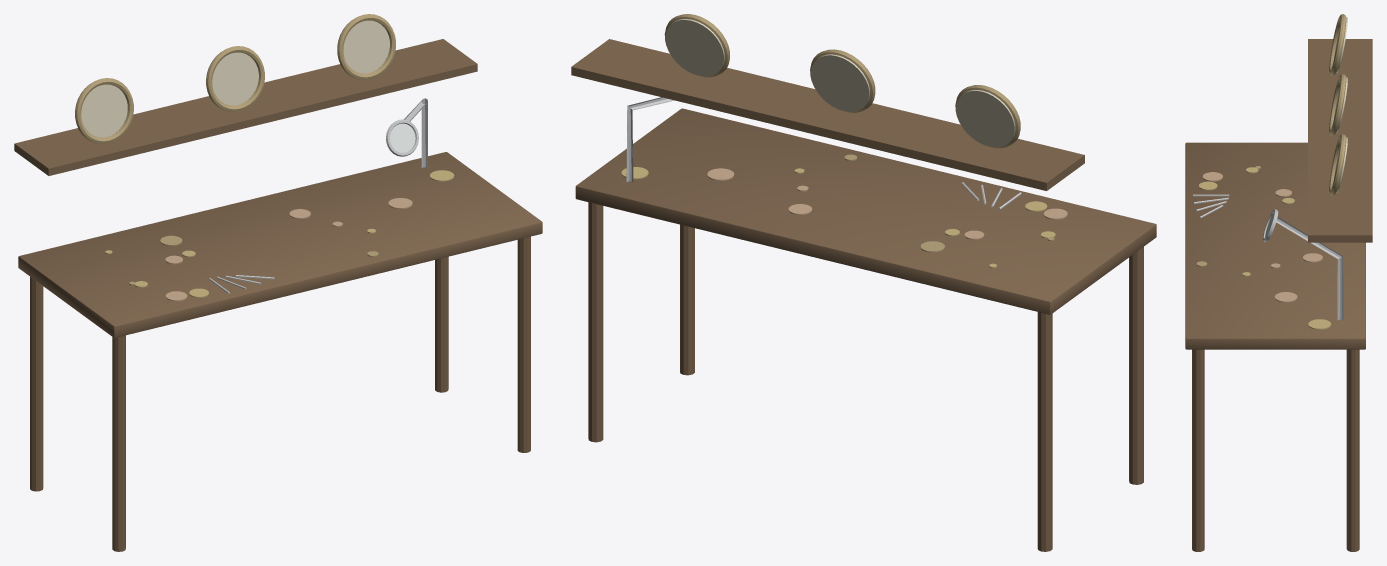
Rendered from clock_workbench.glb.
3 renders of one model, left to right at view 1: azimuth 30°, elevation 25°; view 2: azimuth 150°, elevation 25°; view 3: azimuth 270°, elevation 25°, orthographic. The views are drawn at different scales.
Parts seen in each view (by area): view 1: clock_workbench; view 2: clock_workbench; view 3: clock_workbench.
Part boxes in pixels (x1=…): clock_workbench: x1=14, y1=14, x2=542, y2=551; clock_workbench: x1=571, y1=14, x2=1156, y2=551; clock_workbench: x1=1185, y1=14, x2=1372, y2=551.
Size of what is drawn, in the model's own units: 1.8 by 1.6 by 0.725.
